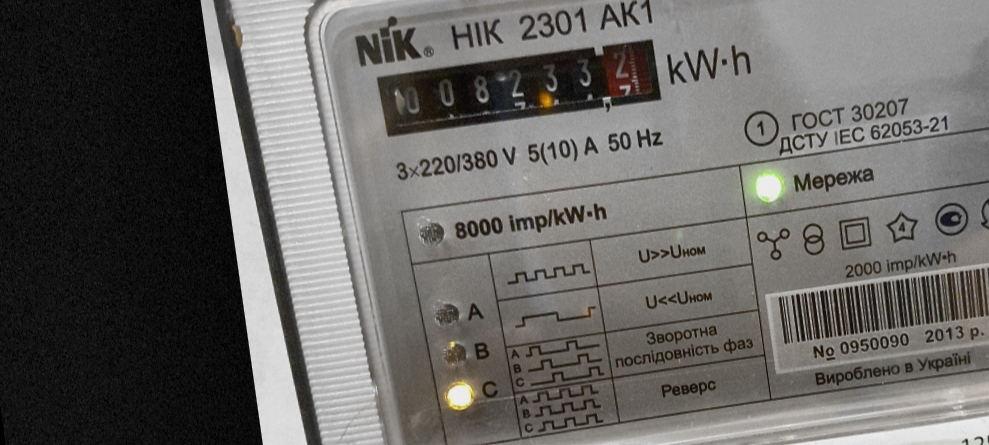0: (400, 83, 425, 118), (436, 77, 458, 111)
2: (504, 67, 529, 102), (611, 49, 632, 82)
3: (540, 62, 562, 95), (575, 56, 596, 89)
8: (471, 73, 493, 107)
screen: (366, 27, 675, 149)
